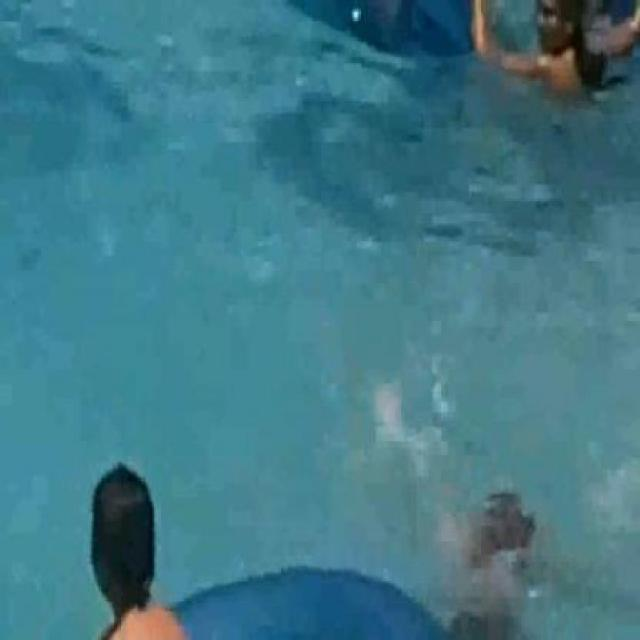drowning: (398, 413, 562, 639)
swimming: (436, 0, 638, 135), (66, 466, 191, 640)
